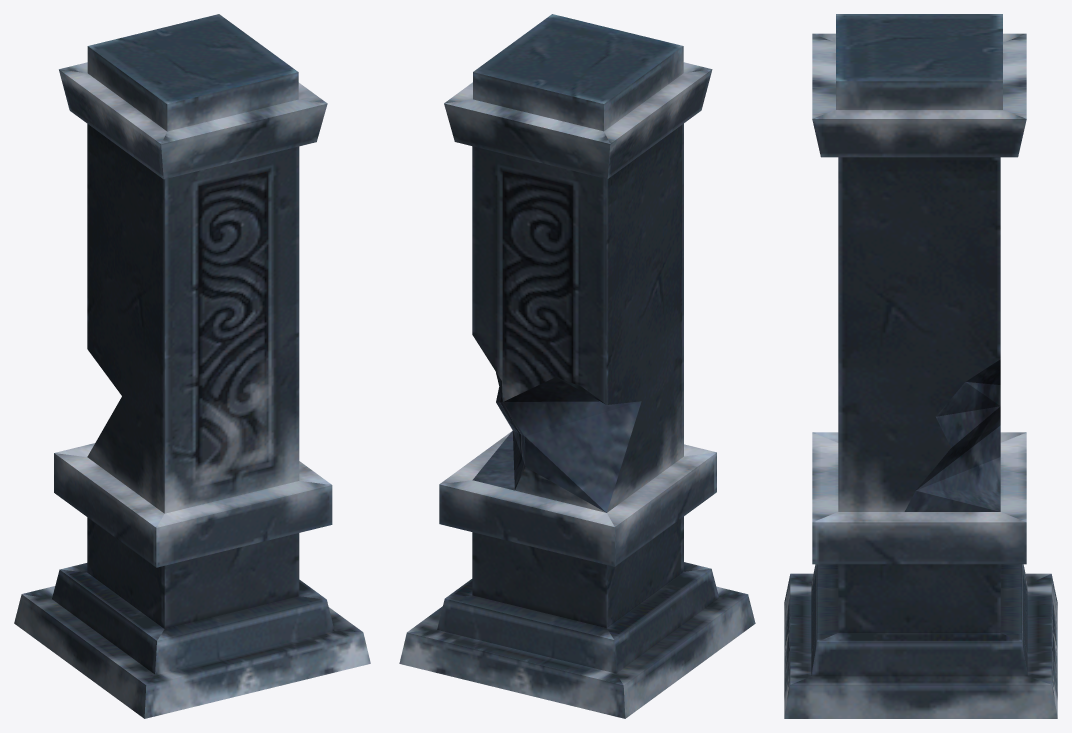
Rendered from Ice_pillar.FBX.
3 views of the same model, side by side, from view 1: azimuth 30°, elevation 25°; view 2: azimuth 150°, elevation 25°; view 3: azimuth 270°, elevation 25° (orthographic). The views are drawn at different scales.
Visible parts, largest first — view 1: Object15687; view 2: Object15687; view 3: Object15687.
Boxes of the visible parts, bbox=[...] form: Object15687: bbox=[14, 14, 370, 718]; Object15687: bbox=[399, 14, 755, 718]; Object15687: bbox=[784, 14, 1057, 718].
Size of the model in its own units: 68.37 by 169 by 68.27.
